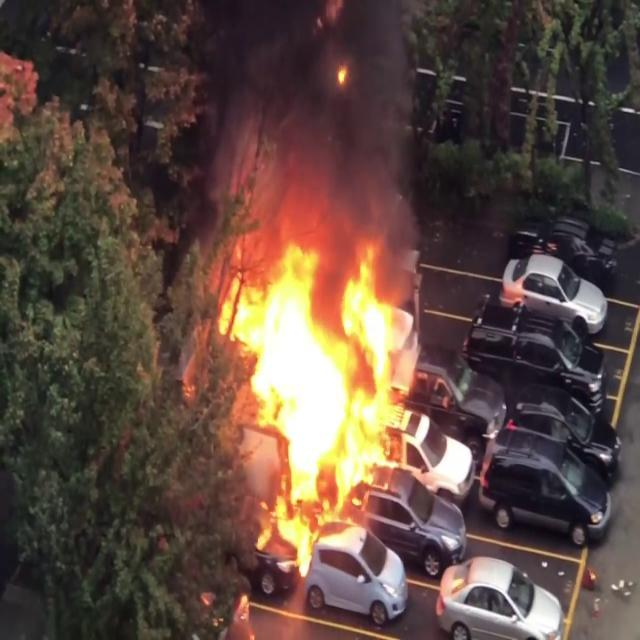Fire: (218, 220, 466, 568)
Smoke: (210, 0, 432, 251)
